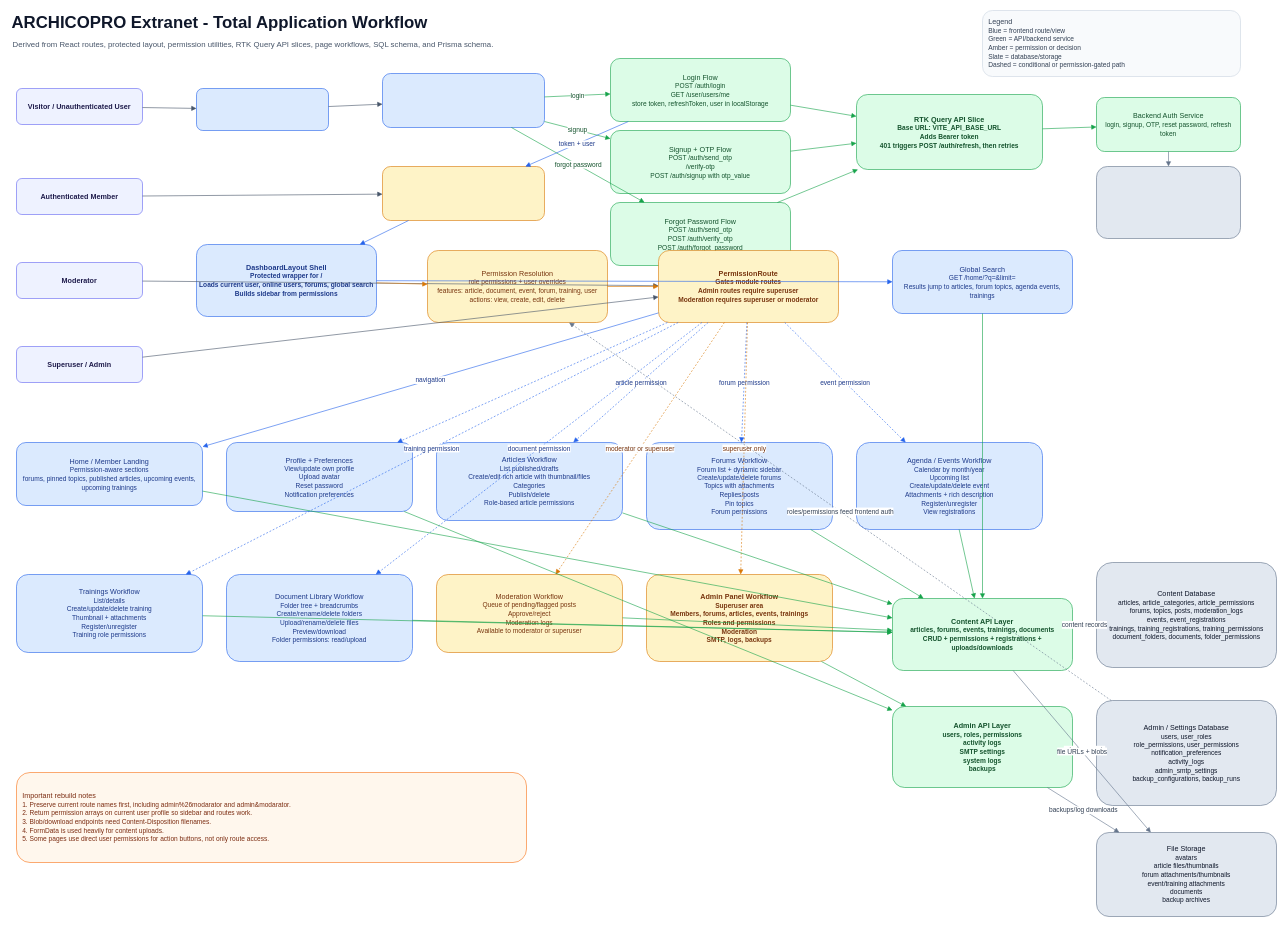
The diagram is 1287 pixels wide and 927 high, and some of its shapes have lost their labels. Each missing label, with the centre of its shape:
"Auth DB users refresh_tokens otp_sessions roles + permissions" goes at pixel 1168 202.
"ProtectedRoute Requires Redux auth.isAuthenticated Otherwise redirects to /login" goes at pixel 463 193.
"PublicRoute /login, /signup, /forgot-password Redirects logged-in users to /" goes at pixel 463 100.
"React Router src/routes/index.tsx" goes at pixel 262 109.
